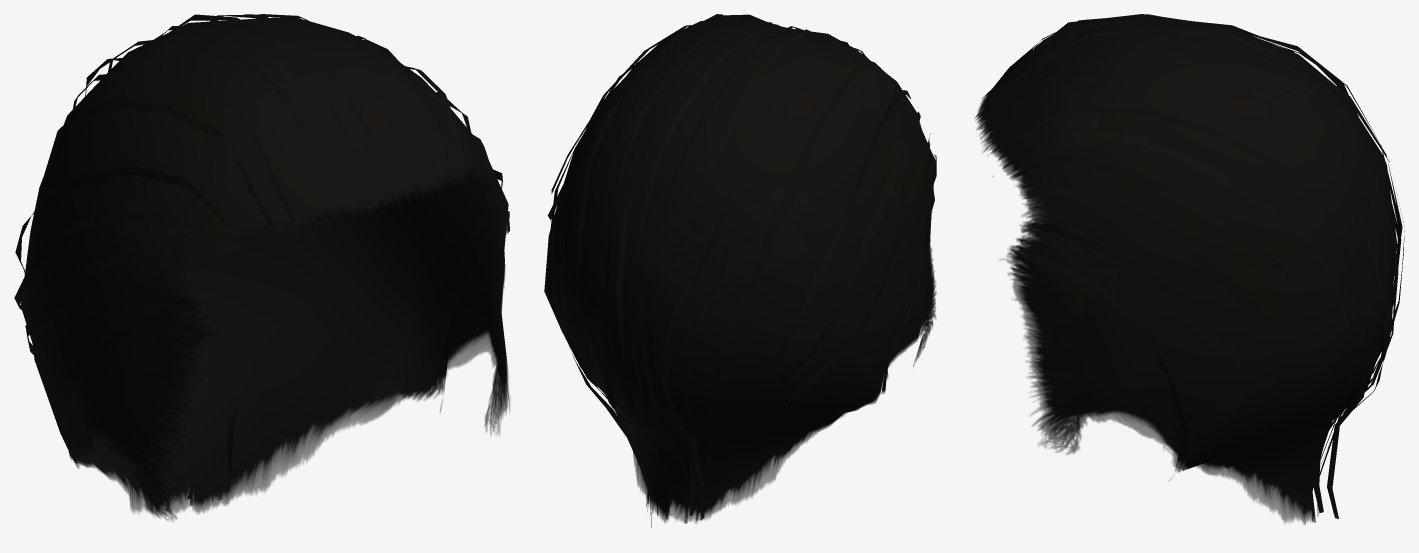
File: hair_messy.glb
3 renders of one model, left to right at view 1: azimuth 30°, elevation 25°; view 2: azimuth 150°, elevation 25°; view 3: azimuth 270°, elevation 25°, orthographic. The views are drawn at different scales.
Visible parts, largest first — view 1: hair_messy; view 2: hair_messy; view 3: hair_messy.
Boxes of the visible parts, bbox=[...] form: hair_messy: bbox=[14, 14, 510, 521]; hair_messy: bbox=[544, 14, 936, 527]; hair_messy: bbox=[974, 14, 1404, 524].
Bounding box in the file's own units: 0.1928 × 0.2537 × 0.2017.
1 material, 1 textured.
